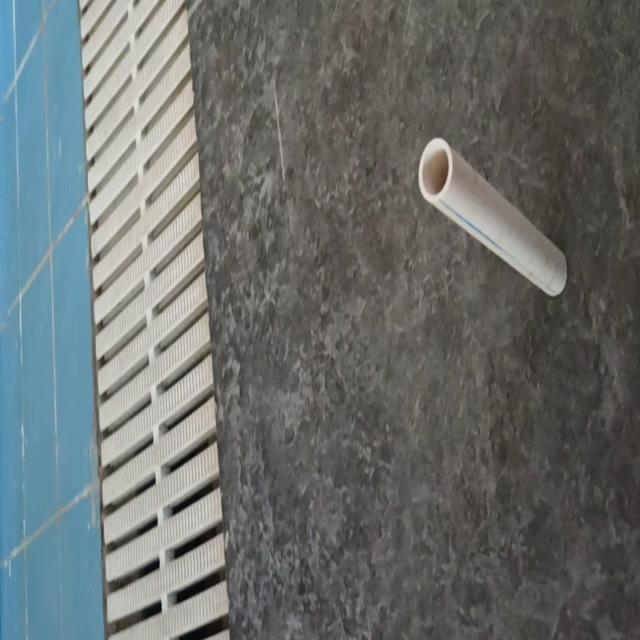Cube: (417, 134, 567, 298)
